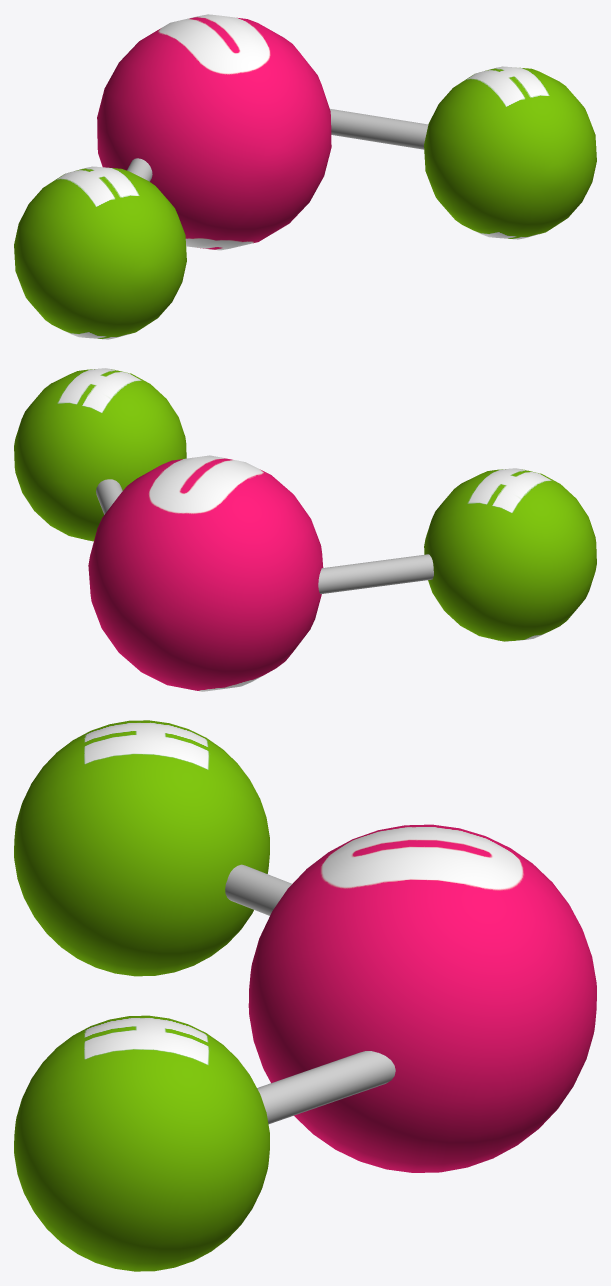
Rendered from SM_Molecule_5.fbx.
3 views of the same model, one above another, from view 1: azimuth 30°, elevation 25°; view 2: azimuth 150°, elevation 25°; view 3: azimuth 270°, elevation 25° (orthographic). The views are drawn at different scales.
Parts seen in each view (by area): view 1: Oxygen, Hydrogen, Hydrogen13, bond28; view 2: Oxygen, Hydrogen, Hydrogen13, bond, bond28; view 3: Oxygen, Hydrogen13, Hydrogen, bond28, bond.
Boxes of the visible parts, x1=… form: Oxygen: x1=97, y1=14, x2=331, y2=250; Hydrogen: x1=14, y1=166, x2=186, y2=339; Hydrogen13: x1=424, y1=66, x2=596, y2=239; bond28: x1=330, y1=109, x2=428, y2=149; Oxygen: x1=88, y1=455, x2=323, y2=691; Hydrogen: x1=424, y1=468, x2=596, y2=641; Hydrogen13: x1=14, y1=368, x2=186, y2=541; bond: x1=318, y1=554, x2=433, y2=593; bond28: x1=96, y1=479, x2=122, y2=514; Oxygen: x1=248, y1=824, x2=596, y2=1172; Hydrogen13: x1=14, y1=1015, x2=269, y2=1271; Hydrogen: x1=14, y1=720, x2=269, y2=976; bond28: x1=257, y1=1051, x2=395, y2=1124; bond: x1=225, y1=864, x2=291, y2=915.
Bounding box in the file's own units: 151 × 54.65 × 92.29.
